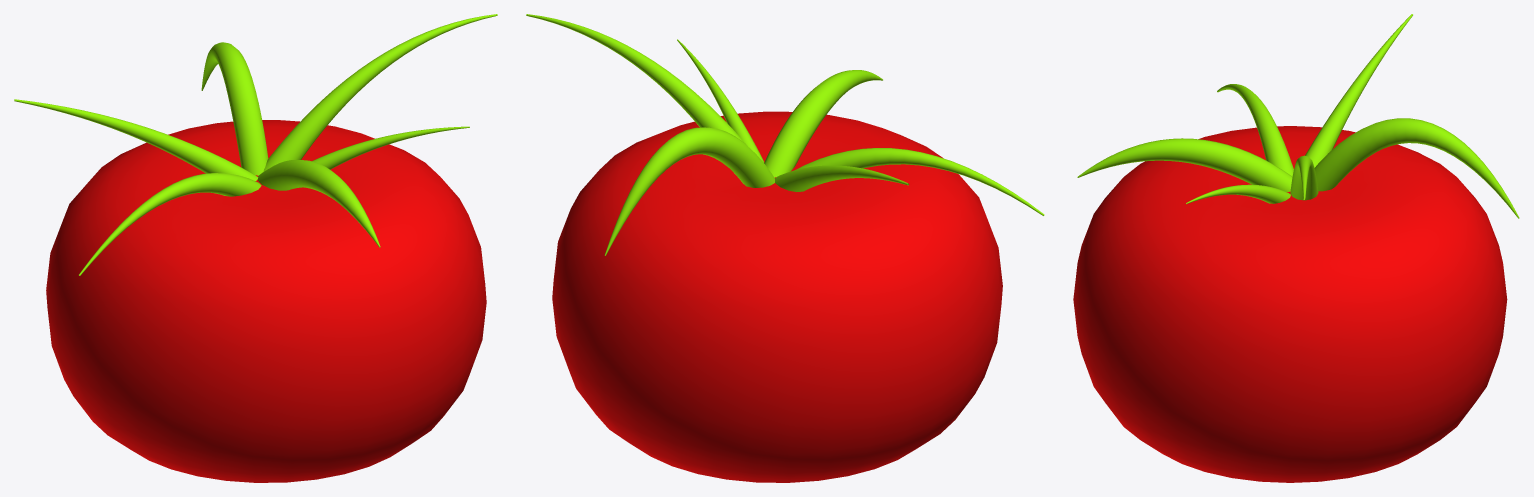
The model's file is tomato.fbx.
3 renders of one model, left to right at view 1: azimuth 30°, elevation 25°; view 2: azimuth 150°, elevation 25°; view 3: azimuth 270°, elevation 25°, orthographic. The views are drawn at different scales.
Visible parts, largest first — view 1: tomato, NurbsPath, NurbsPath.001, NurbsPath.005, NurbsPath.004, NurbsPath.003, NurbsPath.002; view 2: tomato, NurbsPath.001, NurbsPath.004, NurbsPath, NurbsPath.003, NurbsPath.005, NurbsPath.002; view 3: tomato, NurbsPath.001, NurbsPath.004, NurbsPath.005, NurbsPath.003, NurbsPath.002, NurbsPath.
Part boxes in pixels (x1,y1,x2,y2): tomato: [46, 120, 486, 482]; NurbsPath: [263, 14, 497, 171]; NurbsPath.001: [201, 42, 268, 175]; NurbsPath.005: [14, 99, 258, 180]; NurbsPath.004: [257, 160, 380, 247]; NurbsPath.003: [79, 173, 261, 275]; NurbsPath.002: [312, 126, 469, 169]; tomato: [552, 111, 1002, 482]; NurbsPath.001: [604, 127, 774, 255]; NurbsPath.004: [764, 70, 882, 177]; NurbsPath: [526, 14, 747, 145]; NurbsPath.003: [796, 148, 1044, 215]; NurbsPath.005: [775, 165, 909, 191]; NurbsPath.002: [677, 39, 764, 162]; tomato: [1073, 126, 1507, 482]; NurbsPath.001: [1314, 118, 1519, 218]; NurbsPath.004: [1077, 138, 1292, 191]; NurbsPath.005: [1305, 14, 1412, 167]; NurbsPath.003: [1217, 84, 1293, 176]; NurbsPath.002: [1186, 184, 1290, 203]; NurbsPath: [1290, 155, 1318, 200].
Bounding box in the file's own units: 62.19 × 47.04 × 52.9.
